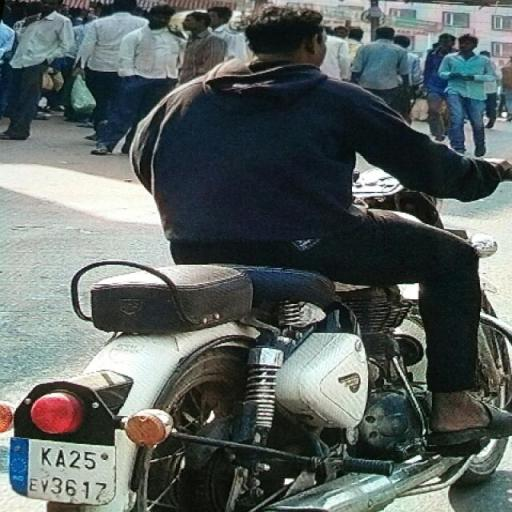bike: (5, 0, 512, 510)
numberplate: (7, 437, 118, 506)
withouthelmet: (248, 4, 324, 62)
